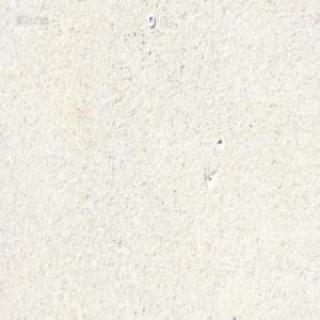Washertrack_idkeyframe: (146, 12, 154, 28)
